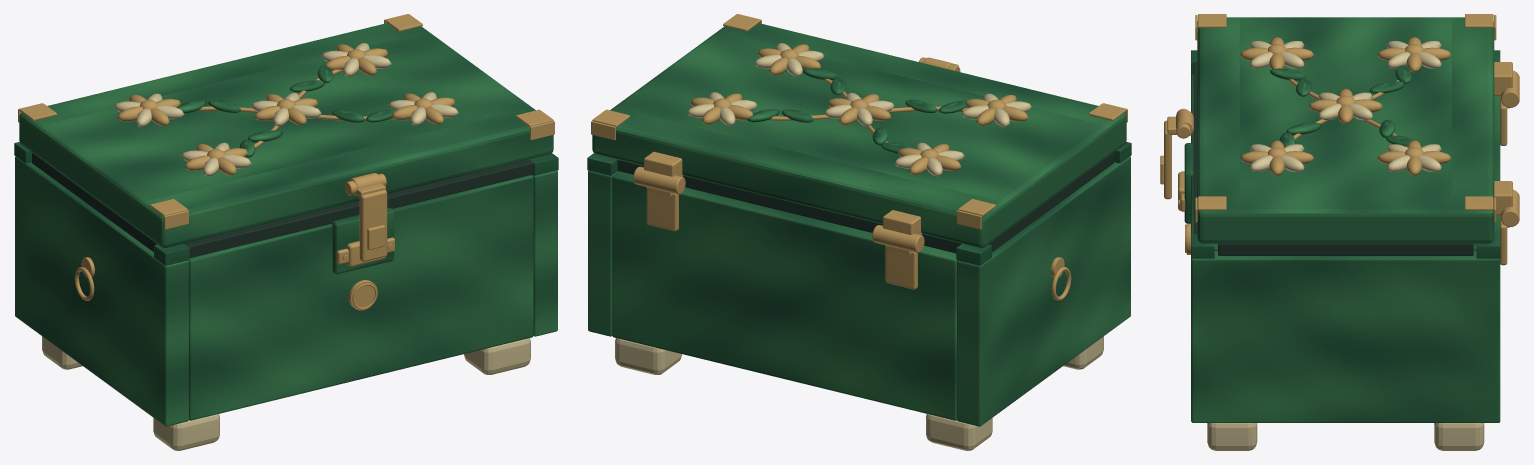
The model's file is hungary.glb.
3 renders of one model, left to right at view 1: azimuth 30°, elevation 25°; view 2: azimuth 150°, elevation 25°; view 3: azimuth 270°, elevation 25°, orthographic. The views are drawn at different scales.
Visible parts, largest first — view 1: Lid / polished slab, Ceramic / front-rear skin, Ceramic / side skin, Mineral seam / long, Ceramic / side skin.001, Ceramic foot, Ceramic foot.002, Latch / lifting hasp, Ceramic / clasp seat, Mineral seam / side, Ceramic / rim corner, Medallion / solid emblem (+1 smaller); view 2: Lid / polished slab, Ceramic / front-rear skin.001, Ceramic / side skin, Ceramic / side skin.001, Mineral seam / long.001, Ceramic foot.001, Ceramic foot.003, Mineral seam / side, Hinge / fixed mount.001, Hinge / fixed mount, Hinge / fixed barrel.001, Hinge / fixed barrel (+5 smaller); view 3: Lid / polished slab, Ceramic / side skin.001, Mineral seam / side.001, Ceramic foot.003, Ceramic foot.002, Mineral seam / long, Ceramic / front-rear skin.001, Ceramic / clasp seat, Latch / lifting hasp, Hinge / moving leaf, Hinge / moving leaf.001, Ceramic / rim corner.003 (+7 smaller).
Boxes of the visible parts, <box> form: Lid / polished slab: <box>19,23,553,247</box>; Ceramic / front-rear skin: <box>188,175,533,420</box>; Ceramic / side skin: <box>15,156,188,426</box>; Mineral seam / long: <box>184,159,533,257</box>; Ceramic / side skin.001: <box>532,170,557,336</box>; Ceramic foot: <box>153,414,219,450</box>; Ceramic foot.002: <box>464,338,530,374</box>; Latch / lifting hasp: <box>359,190,387,261</box>; Ceramic / clasp seat: <box>332,207,393,274</box>; Mineral seam / side: <box>32,152,157,252</box>; Ceramic / rim corner: <box>154,243,189,265</box>; Medallion / solid emblem: <box>348,280,377,310</box>; Lid / polished slab: <box>592,23,1126,247</box>; Ceramic / front-rear skin.001: <box>612,171,957,420</box>; Ceramic / side skin: <box>957,156,1130,426</box>; Ceramic / side skin.001: <box>588,170,618,336</box>; Mineral seam / long.001: <box>617,159,961,253</box>; Ceramic foot.001: <box>926,414,992,450</box>; Ceramic foot.003: <box>615,338,681,374</box>; Mineral seam / side: <box>988,152,1113,252</box>; Hinge / fixed mount.001: <box>646,187,678,231</box>; Hinge / fixed mount: <box>885,245,917,289</box>; Hinge / fixed barrel.001: <box>633,166,685,194</box>; Hinge / fixed barrel: <box>872,225,924,252</box>; Lid / polished slab: <box>1197,17,1494,243</box>; Ceramic / side skin.001: <box>1191,251,1500,422</box>; Mineral seam / side.001: <box>1218,243,1473,255</box>; Ceramic foot.003: <box>1434,423,1484,450</box>; Ceramic foot.002: <box>1207,423,1257,450</box>; Mineral seam / long: <box>1193,62,1197,234</box>; Ceramic / front-rear skin.001: <box>1494,95,1500,234</box>; Ceramic / clasp seat: <box>1184,143,1193,223</box>; Latch / lifting hasp: <box>1164,120,1171,199</box>; Hinge / moving leaf: <box>1494,62,1512,95</box>; Hinge / moving leaf.001: <box>1494,181,1512,214</box>; Ceramic / rim corner.003: <box>1476,234,1500,258</box>.
Bounding box in the file's own units: 3.79 × 2.37 × 2.88.
4 materials, 2 textured.
